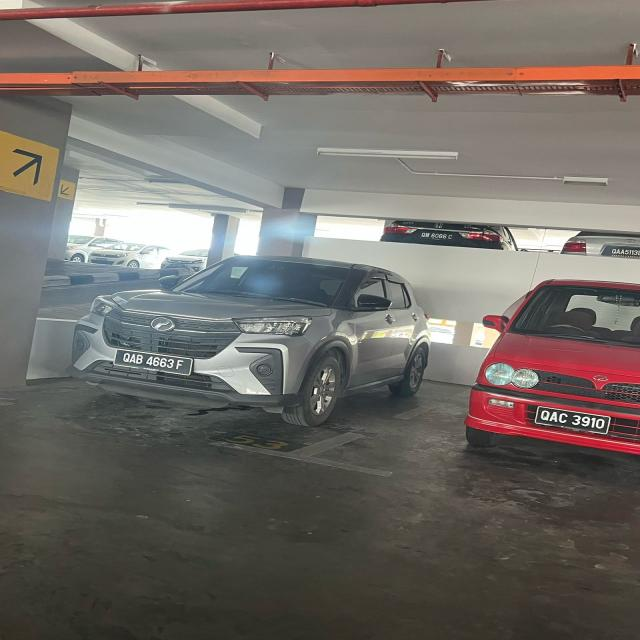PeroduaAtiva: (65, 253, 432, 427)
